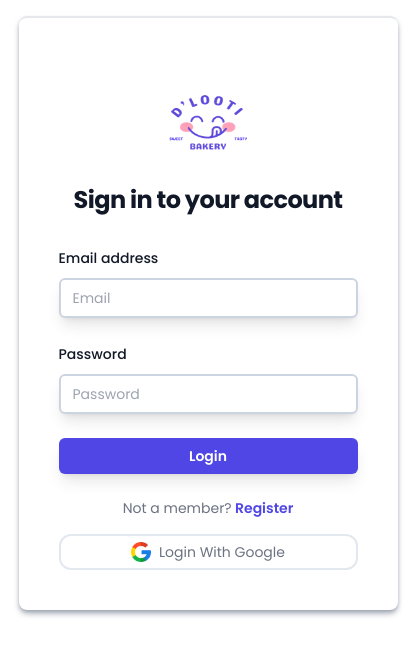
Test: Login Page › Login function failed
Type "example@gmail.com" into the field with placeholder "Email".
click(208, 298); type("example@gmail.com")  # box [58,278,358,318]
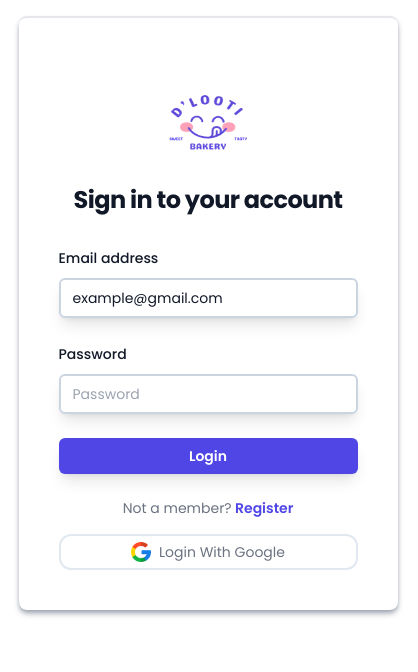
Type "example123" into the password field with placeholder "Password".
click(208, 394); type("example123")  # box [58,374,358,414]
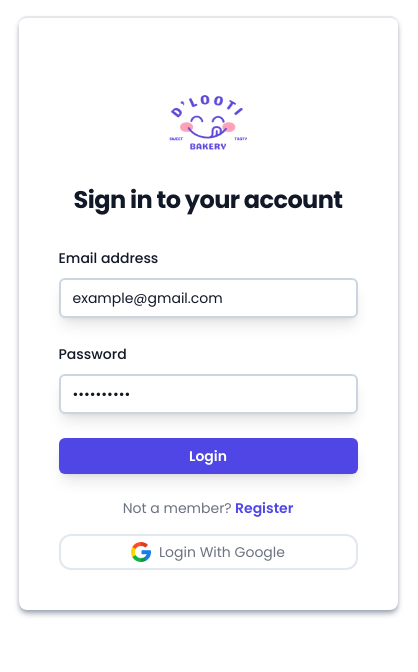
Submit the form named "login form", box [58,246,358,474]
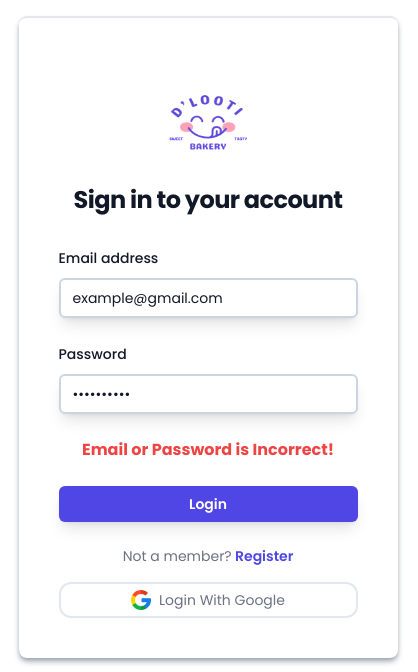
Now the text "Email or Password is Incorrect!" is shown, box [82,438,334,461]
